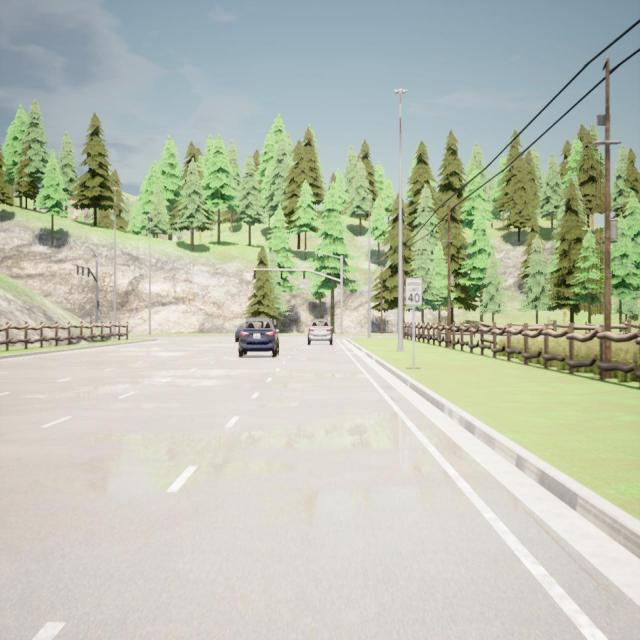Traffic_Signs: (405, 277, 422, 306)
Vehicle: (239, 318, 279, 357), (306, 317, 334, 347), (235, 323, 244, 342)
traffic_light: (97, 299, 100, 309), (280, 270, 283, 279), (77, 265, 79, 275), (82, 266, 84, 276), (254, 270, 256, 279), (304, 270, 306, 279), (88, 268, 90, 277)
